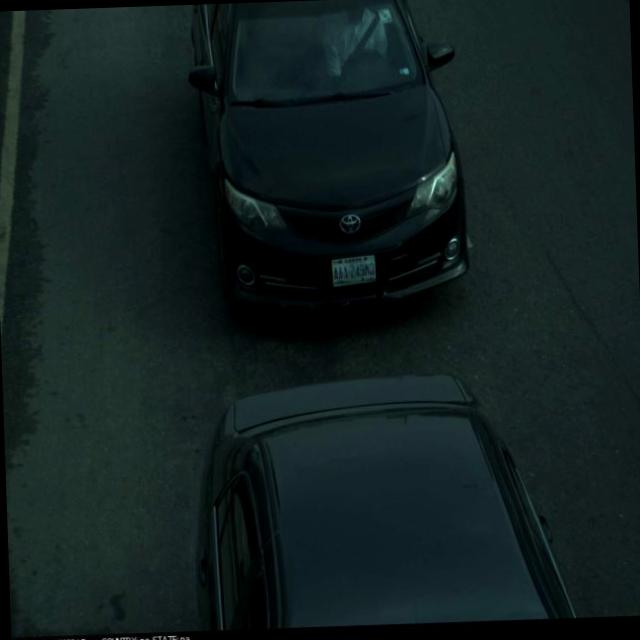person_with_seatbelt: (313, 0, 410, 103)
